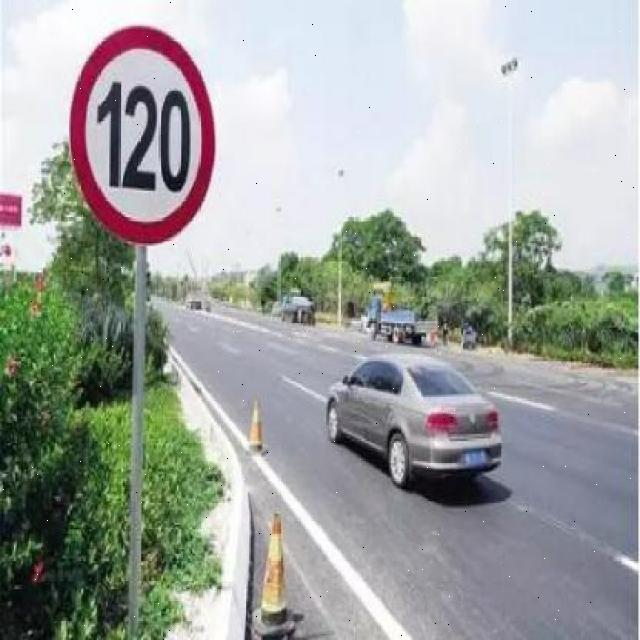speed limit 120: (70, 24, 216, 246)
